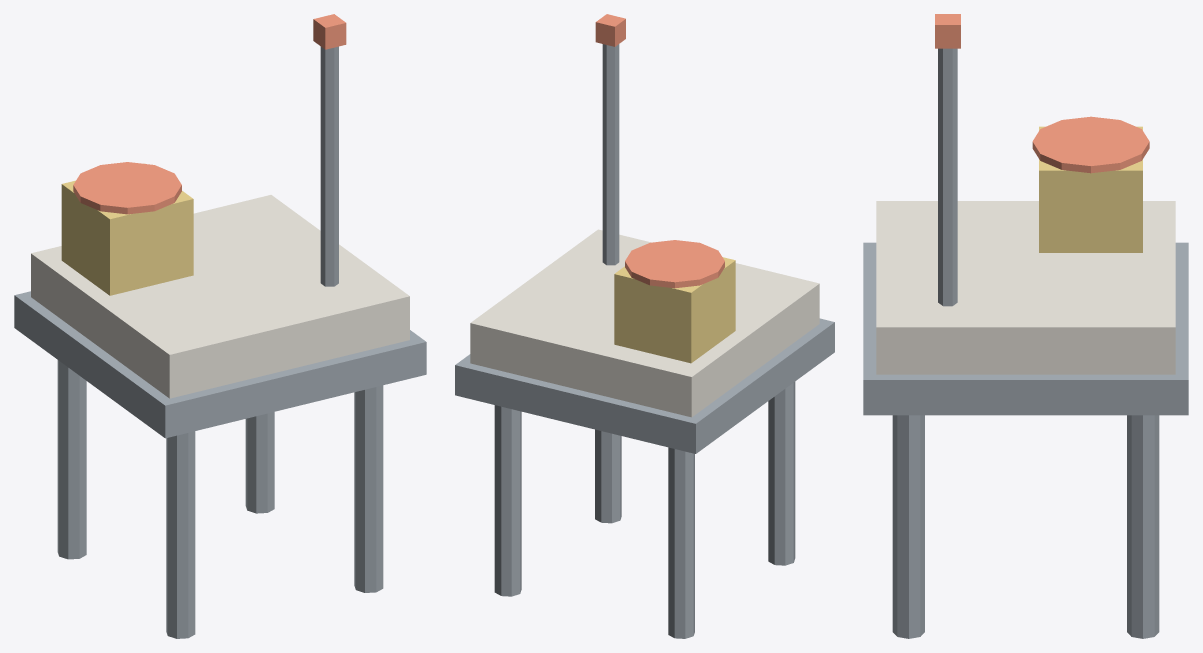
The model's file is platform.glb.
3 renders of one model, left to right at view 1: azimuth 30°, elevation 25°; view 2: azimuth 150°, elevation 25°; view 3: azimuth 270°, elevation 25°, orthographic. The views are drawn at different scales.
Visible parts, largest first — view 1: modules, cellar_deck, living_quarters, Cylinder, Cylinder.002, Cylinder.001, Cylinder.004, Cylinder.005, Cylinder.003, flare_tip; view 2: modules, cellar_deck, living_quarters, Cylinder.003, Cylinder.001, Cylinder, Cylinder.005, Cylinder.004, Cylinder.002, flare_tip; view 3: modules, cellar_deck, living_quarters, Cylinder.002, Cylinder.003, Cylinder.004, Cylinder.005, flare_tip.
Part boxes in pixels (x1=…): modules: x1=31, y1=195, x2=409, y2=398; cellar_deck: x1=14, y1=291, x2=426, y2=438; living_quarters: x1=61, y1=163, x2=193, y2=295; Cylinder: x1=166, y1=431, x2=195, y2=638; Cylinder.002: x1=354, y1=385, x2=383, y2=592; Cylinder.001: x1=57, y1=360, x2=86, y2=559; Cylinder.004: x1=73, y1=162, x2=181, y2=214; Cylinder.005: x1=320, y1=46, x2=338, y2=286; Cylinder.003: x1=245, y1=412, x2=274, y2=513; flare_tip: x1=313, y1=14, x2=346, y2=49; modules: x1=470, y1=229, x2=819, y2=417; cellar_deck: x1=455, y1=318, x2=834, y2=453; living_quarters: x1=614, y1=257, x2=735, y2=363; Cylinder.003: x1=494, y1=405, x2=521, y2=596; Cylinder.001: x1=668, y1=447, x2=694, y2=638; Cylinder: x1=768, y1=381, x2=795, y2=565; Cylinder.005: x1=602, y1=44, x2=619, y2=265; Cylinder.004: x1=625, y1=240, x2=724, y2=288; Cylinder.002: x1=595, y1=429, x2=621, y2=523; flare_tip: x1=595, y1=14, x2=625, y2=46; modules: x1=876, y1=201, x2=1175, y2=374; cellar_deck: x1=863, y1=242, x2=1188, y2=415; living_quarters: x1=1039, y1=126, x2=1142, y2=252; Cylinder.002: x1=892, y1=415, x2=924, y2=638; Cylinder.003: x1=1127, y1=415, x2=1159, y2=638; Cylinder.004: x1=1032, y1=116, x2=1149, y2=173; Cylinder.005: x1=938, y1=48, x2=957, y2=306; flare_tip: x1=935, y1=14, x2=960, y2=48.
Size of the model in its own units: 50 by 102 by 50.
